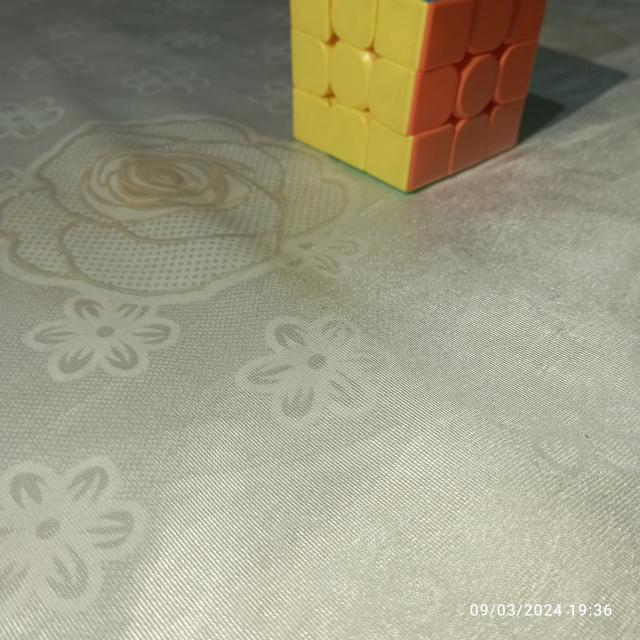Rub: (285, 0, 550, 195)
